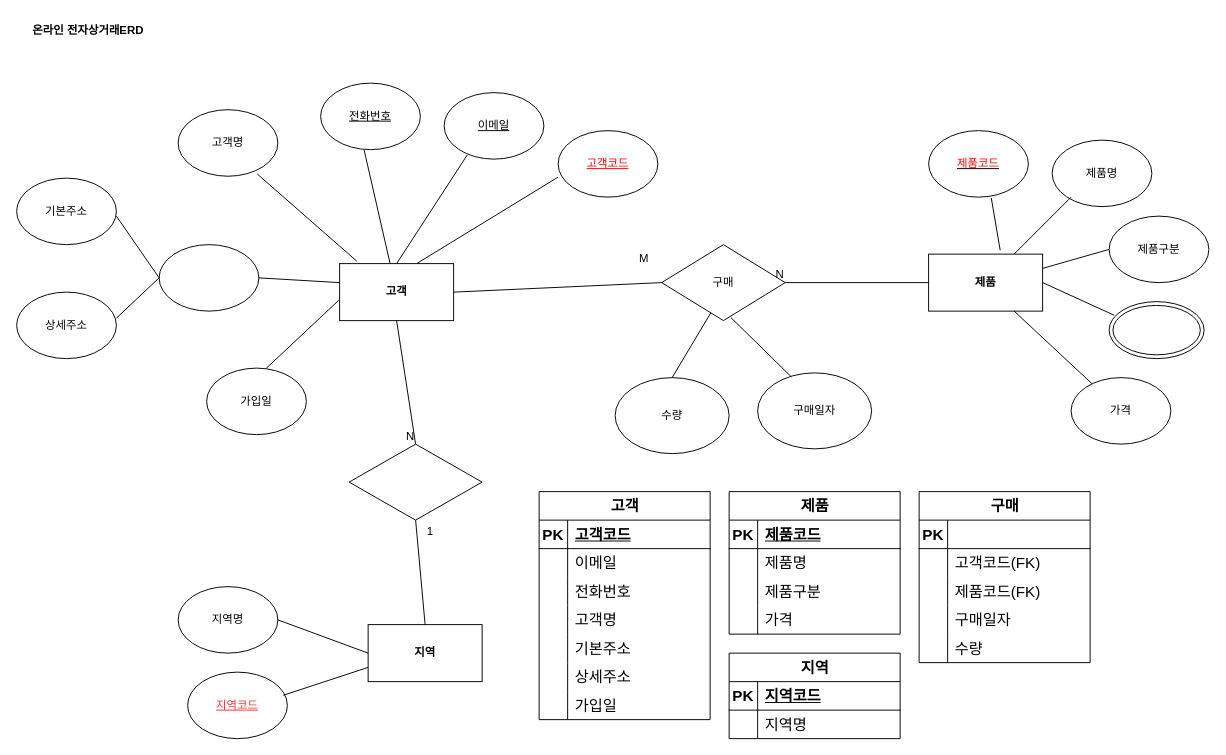
The diagram is 1226 pixels wide and 755 high, and some of its shapes have lost their labels. Each missing label, with the centre of its shape:
관리: the point at 415,481
제품색상: the point at 1156,330
주소: the point at 208,277
